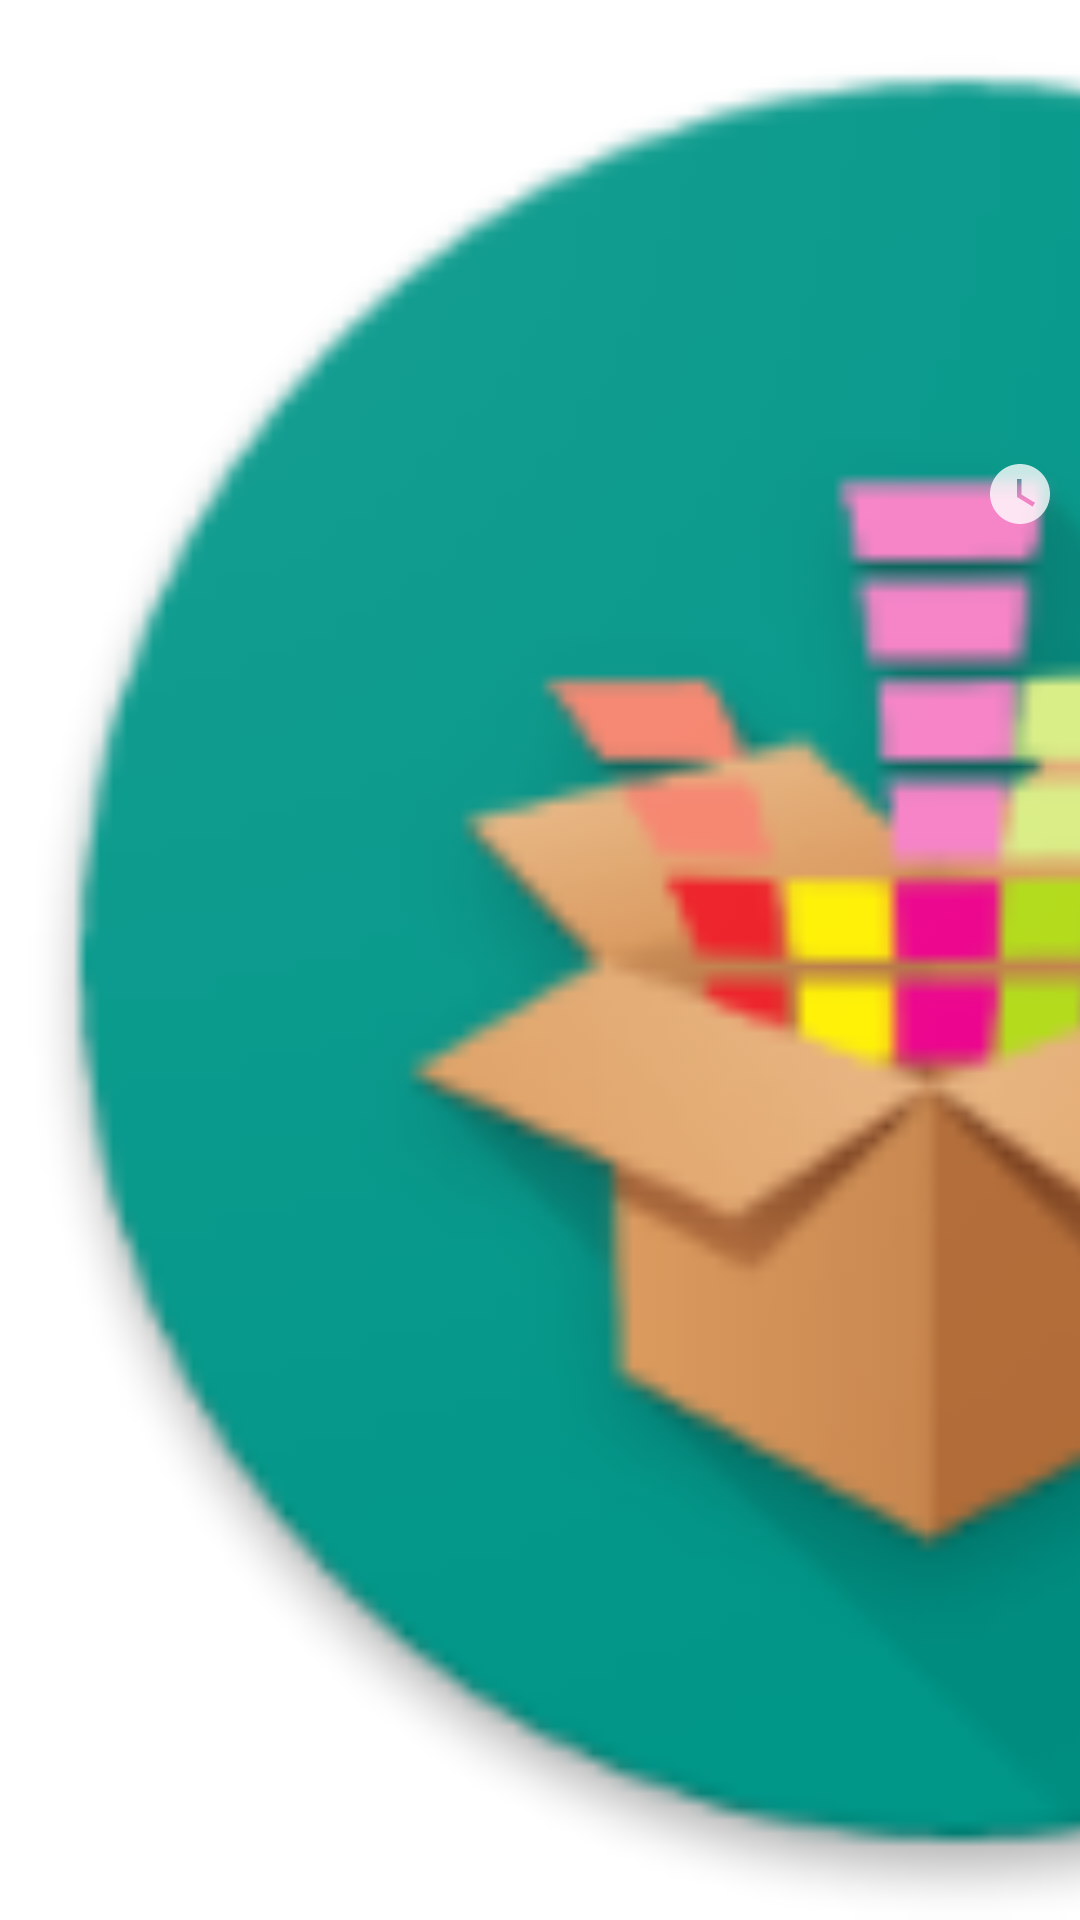

Where icons sit on this 1080w x 1920h app screen, as bbox=[x1, y1, x2, y2]:
state waiting: bbox=[984, 464, 1050, 530]
